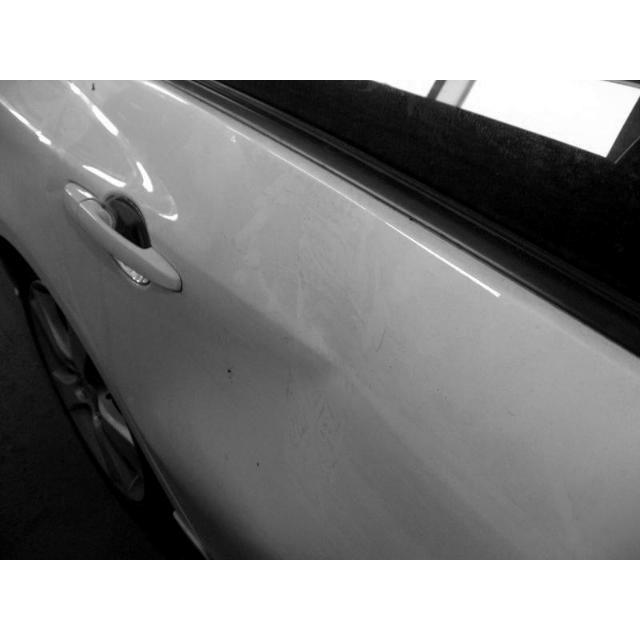doorouter-dent: (12, 106, 391, 526)
